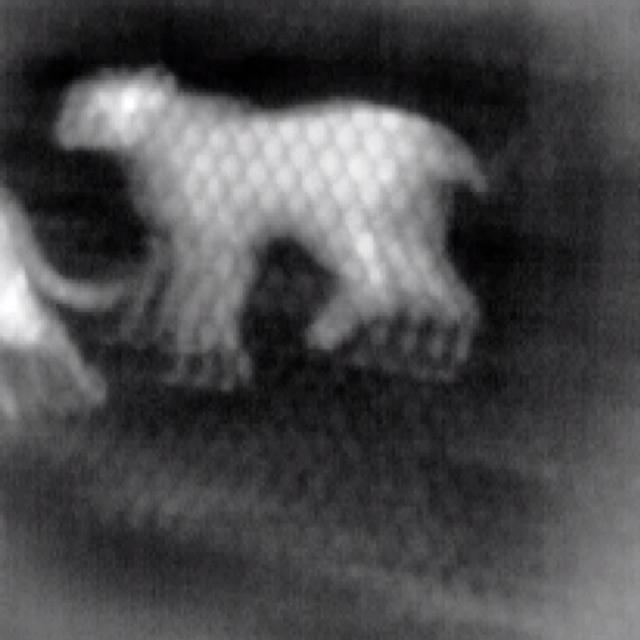cheetah: (92, 66, 486, 393), (52, 73, 460, 367)
